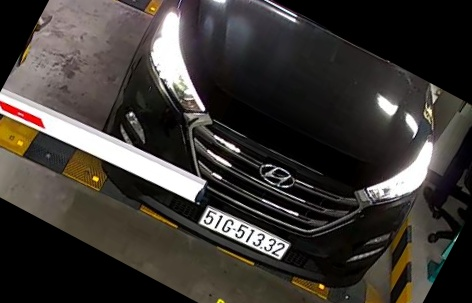plate: (197, 203, 290, 267)
